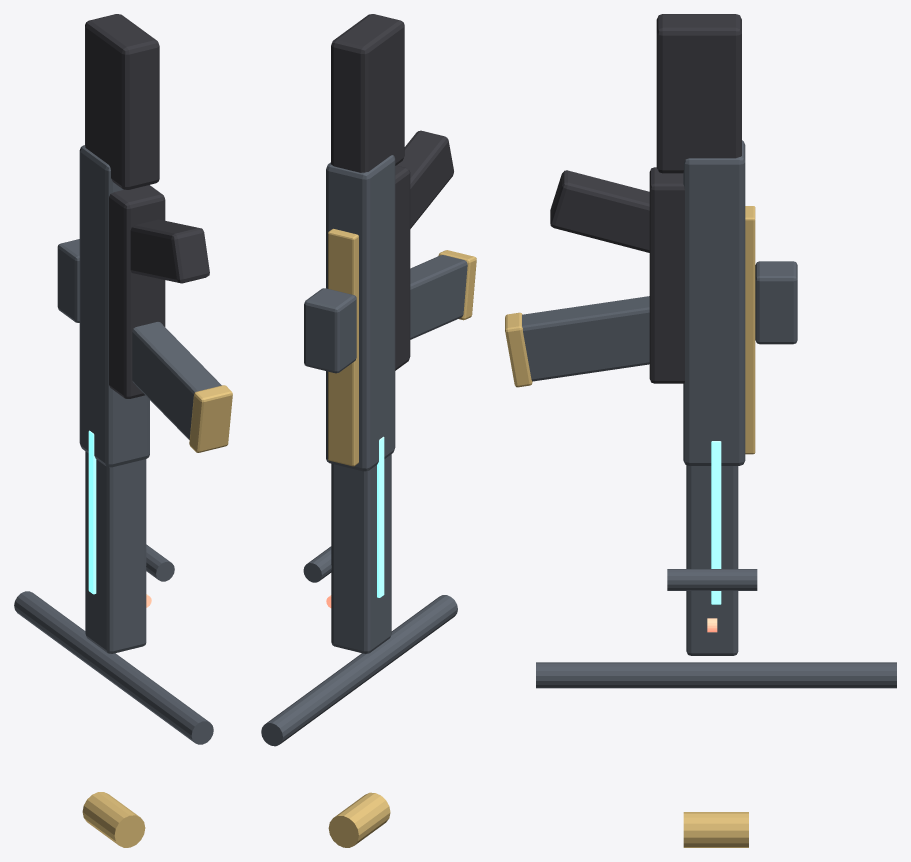
The model's file is tactical_pulse_rifle.glb.
The picture shows the model from 3 angles, left to right: view 1: azimuth 30°, elevation 25°; view 2: azimuth 150°, elevation 25°; view 3: azimuth 270°, elevation 25°; orthographic projection. The views are drawn at different scales.
Visible parts, largest first — view 1: UpperReceiver, TacStock, Handguard, LowerReceiver, HeavyBarrel, CurvedMag, PistolGrip, MagBaseplate, MuzzleBrake, HoloHousing, EnergyRailL, TacLaserPod; view 2: UpperReceiver, TacStock, Handguard, HeavyBarrel, TopRail, HoloHousing, CurvedMag, LowerReceiver, PistolGrip, MuzzleBrake, EnergyRailL, MagBaseplate (+1 smaller); view 3: UpperReceiver, TacStock, HeavyBarrel, CurvedMag, Handguard, LowerReceiver, PistolGrip, HoloHousing, TopRail, MuzzleBrake, TacLaserPod, EnergyRailR (+1 smaller).
Boxes of the visible parts, x1=… form: UpperReceiver: x1=79, y1=145, x2=149, y2=467; TacStock: x1=85, y1=14, x2=159, y2=189; Handguard: x1=85, y1=451, x2=146, y2=653; LowerReceiver: x1=109, y1=185, x2=165, y2=398; HeavyBarrel: x1=14, y1=591, x2=213, y2=744; CurvedMag: x1=132, y1=322, x2=221, y2=439; PistolGrip: x1=130, y1=219, x2=209, y2=283; MagBaseplate: x1=189, y1=385, x2=232, y2=452; MuzzleBrake: x1=82, y1=792, x2=145, y2=847; HoloHousing: x1=57, y1=239, x2=79, y2=322; EnergyRailL: x1=88, y1=430, x2=96, y2=594; TacLaserPod: x1=146, y1=544, x2=174, y2=581; UpperReceiver: x1=326, y1=155, x2=395, y2=471; TacStock: x1=331, y1=14, x2=404, y2=172; Handguard: x1=331, y1=454, x2=391, y2=653; HeavyBarrel: x1=261, y1=595, x2=457, y2=746; TopRail: x1=328, y1=228, x2=358, y2=466; HoloHousing: x1=304, y1=288, x2=356, y2=373; CurvedMag: x1=410, y1=255, x2=467, y2=339; LowerReceiver: x1=395, y1=165, x2=410, y2=370; PistolGrip: x1=396, y1=130, x2=453, y2=228; MuzzleBrake: x1=328, y1=792, x2=390, y2=847; EnergyRailL: x1=377, y1=436, x2=384, y2=597; MagBaseplate: x1=438, y1=250, x2=476, y2=320; UpperReceiver: x1=683, y1=140, x2=745, y2=465; TacStock: x1=656, y1=14, x2=741, y2=173; HeavyBarrel: x1=536, y1=662, x2=896, y2=688; CurvedMag: x1=522, y1=296, x2=649, y2=381; Handguard: x1=686, y1=465, x2=738, y2=655; LowerReceiver: x1=649, y1=167, x2=684, y2=383; PistolGrip: x1=550, y1=170, x2=649, y2=252; HoloHousing: x1=755, y1=261, x2=797, y2=344; TopRail: x1=745, y1=206, x2=755, y2=454; MuzzleBrake: x1=683, y1=812, x2=748, y2=847; TacLaserPod: x1=667, y1=569, x2=757, y2=590; EnergyRailR: x1=711, y1=441, x2=721, y2=604.
Size of the model in its own units: 0.07 by 0.908 by 0.3907.
